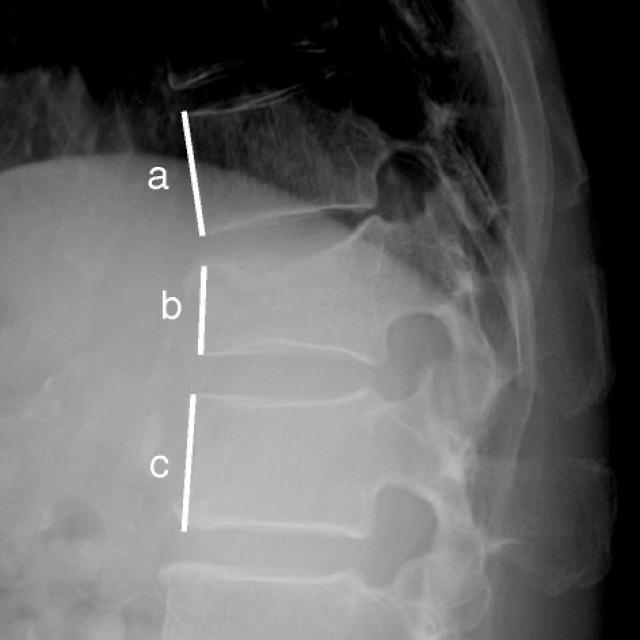fracture: (153, 52, 640, 640)
